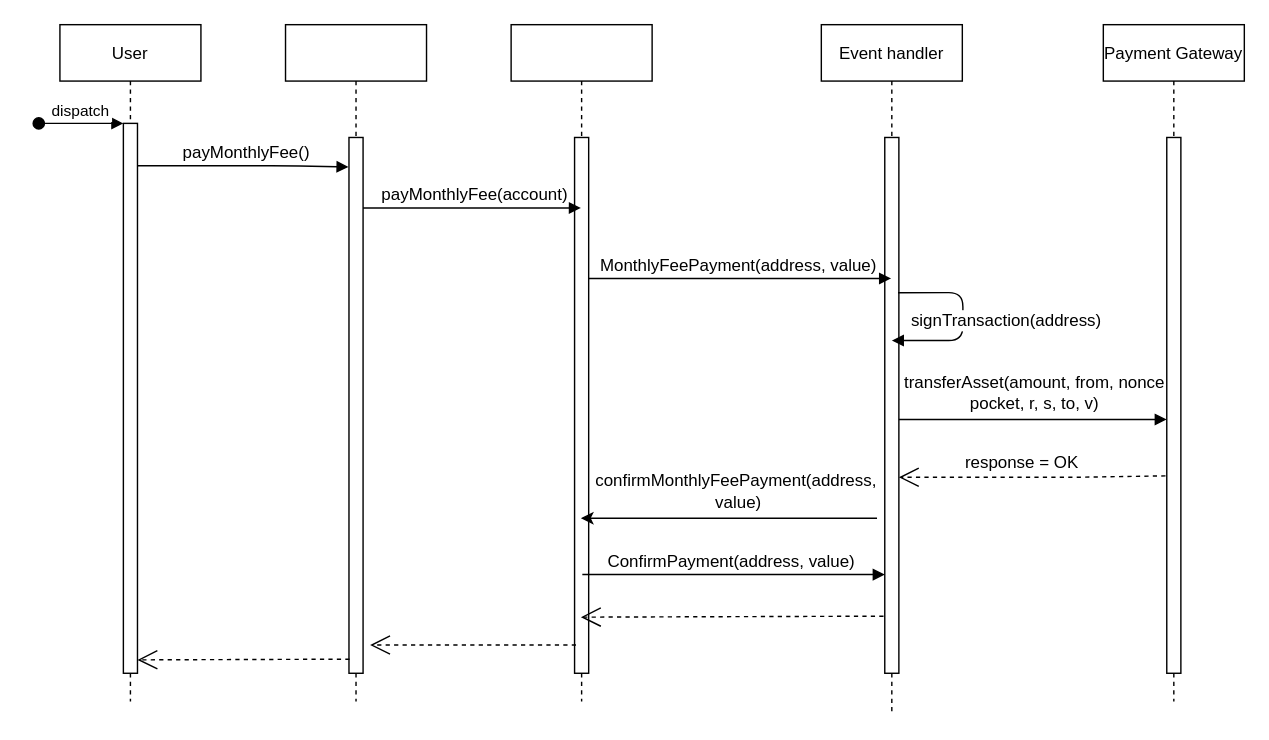
Some shapes in this 1269 by 740 pixel diagram are drawn without their labels. Each missing label, with the box of its shape:
Ethereum smart contact: (510, 23, 652, 701)
Flutter app: (284, 23, 427, 701)
